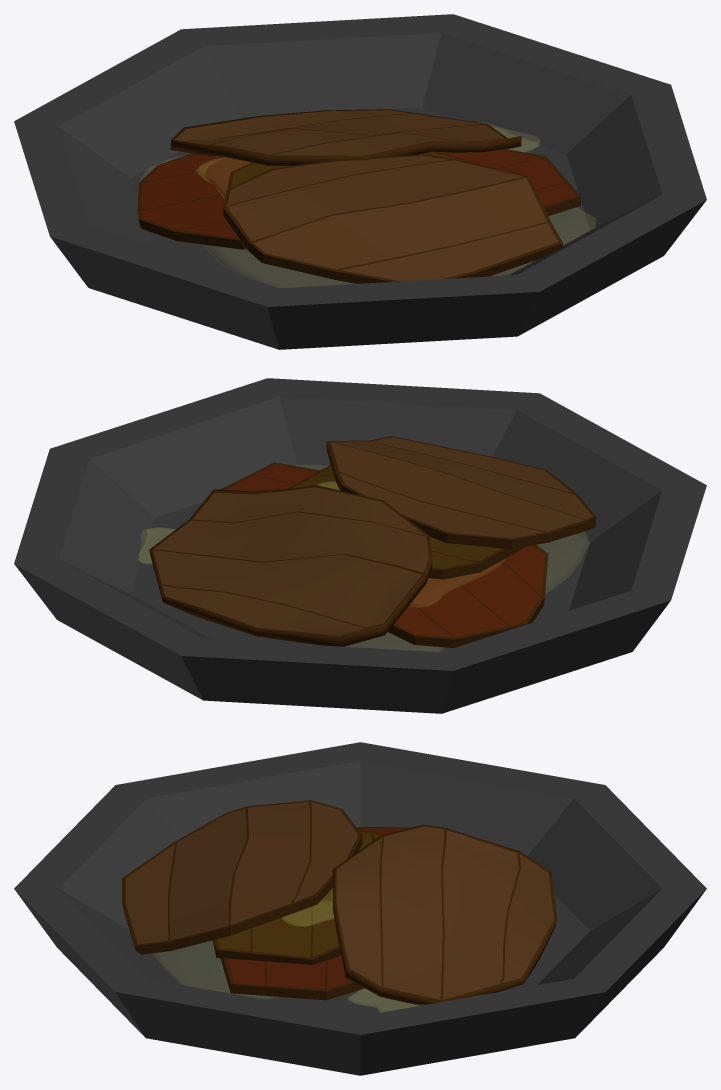
The model's file is carnivore feast.fbx.
3 renders of one model, top to bottom at view 1: azimuth 30°, elevation 25°; view 2: azimuth 150°, elevation 25°; view 3: azimuth 270°, elevation 25°, orthographic. The views are drawn at different scales.
Parts seen in each view (by area): view 1: plate; view 2: plate; view 3: plate.
Part boxes in pixels (box(x1,y1,x2,y2)): plate: box(14, 14, 706, 349); plate: box(14, 378, 706, 713); plate: box(14, 742, 706, 1075).
Bounding box in the file's own units: 302 × 44.06 × 302.
